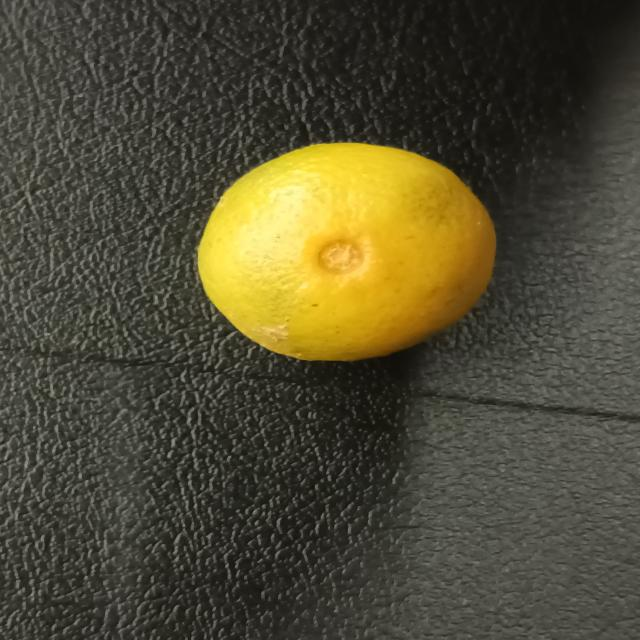greening: (197, 141, 508, 363)
